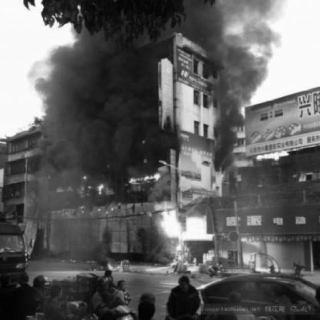Fire: (150, 206, 218, 268)
